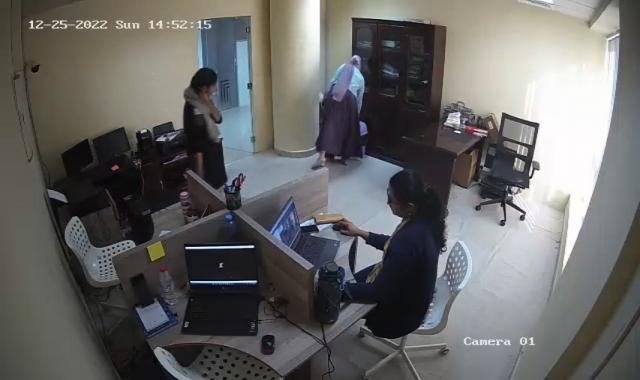no_hairnet: (387, 168, 423, 216), (192, 67, 218, 98), (350, 55, 363, 68)
